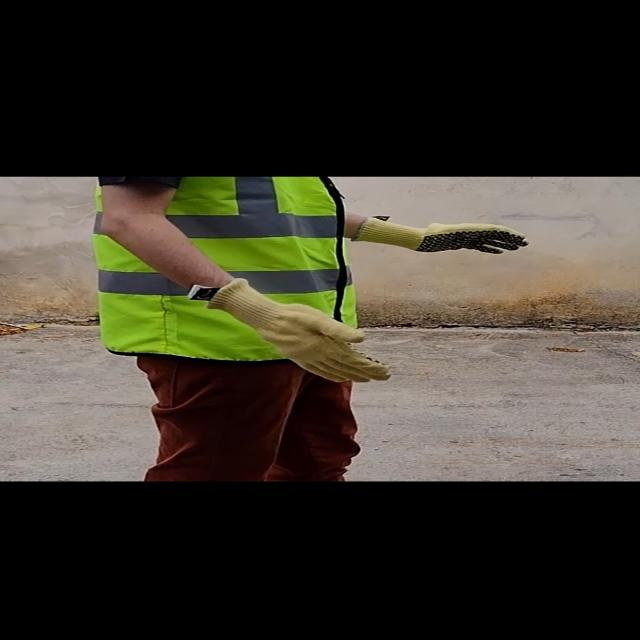glove: (186, 274, 392, 385), (356, 212, 534, 258)
pants: (132, 349, 369, 478)
vest: (106, 176, 352, 359)
